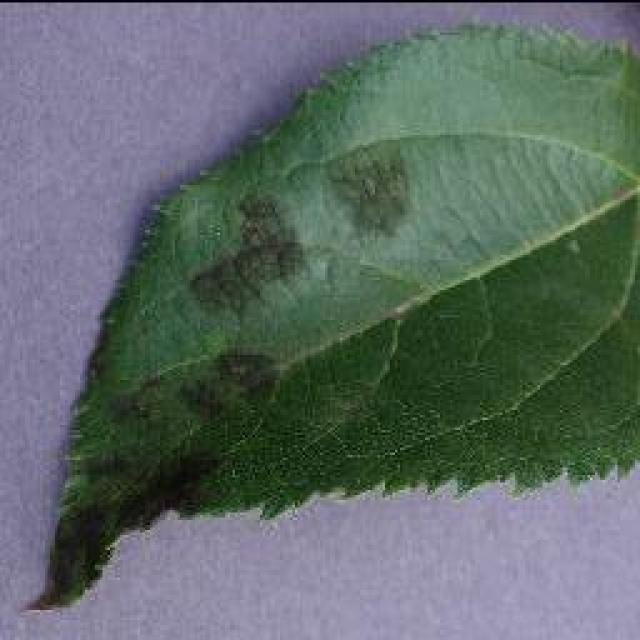apple scab disease: (20, 18, 638, 612)
